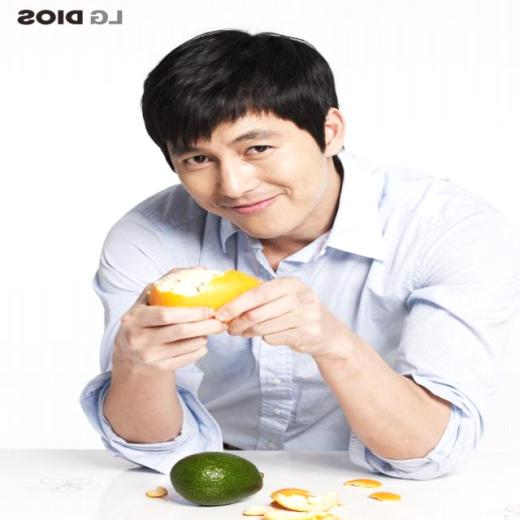Grape: (147, 269, 263, 324)
